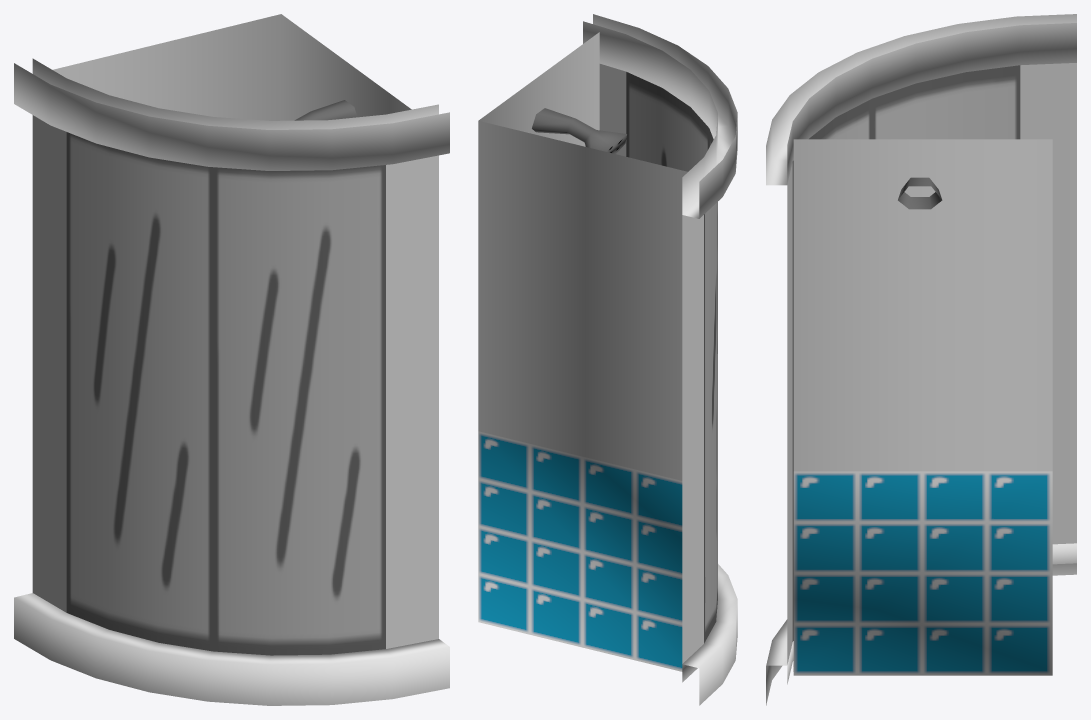
File: shower 1.fbx
3 renders of one model, left to right at view 1: azimuth 30°, elevation 25°; view 2: azimuth 150°, elevation 25°; view 3: azimuth 270°, elevation 25°, orthographic. The views are drawn at different scales.
Visible parts, largest first — view 1: showerGlass; view 2: showerGlass; view 3: showerGlass.
Boxes of the visible parts, x1,y1,x2,y2 form: showerGlass: [14, 14, 449, 705]; showerGlass: [478, 14, 737, 705]; showerGlass: [766, 14, 1076, 705].
Bounding box in the file's own units: 64.67 × 129 × 64.67.
